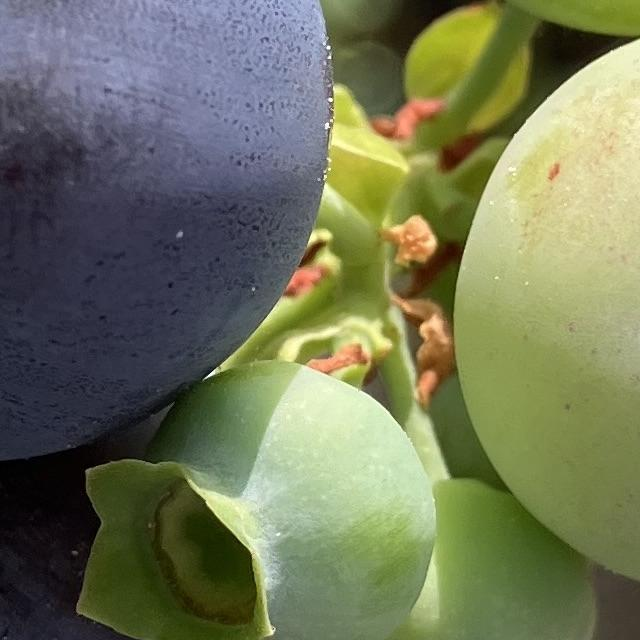Blueberries: (0, 0, 334, 465), (447, 13, 640, 601)
